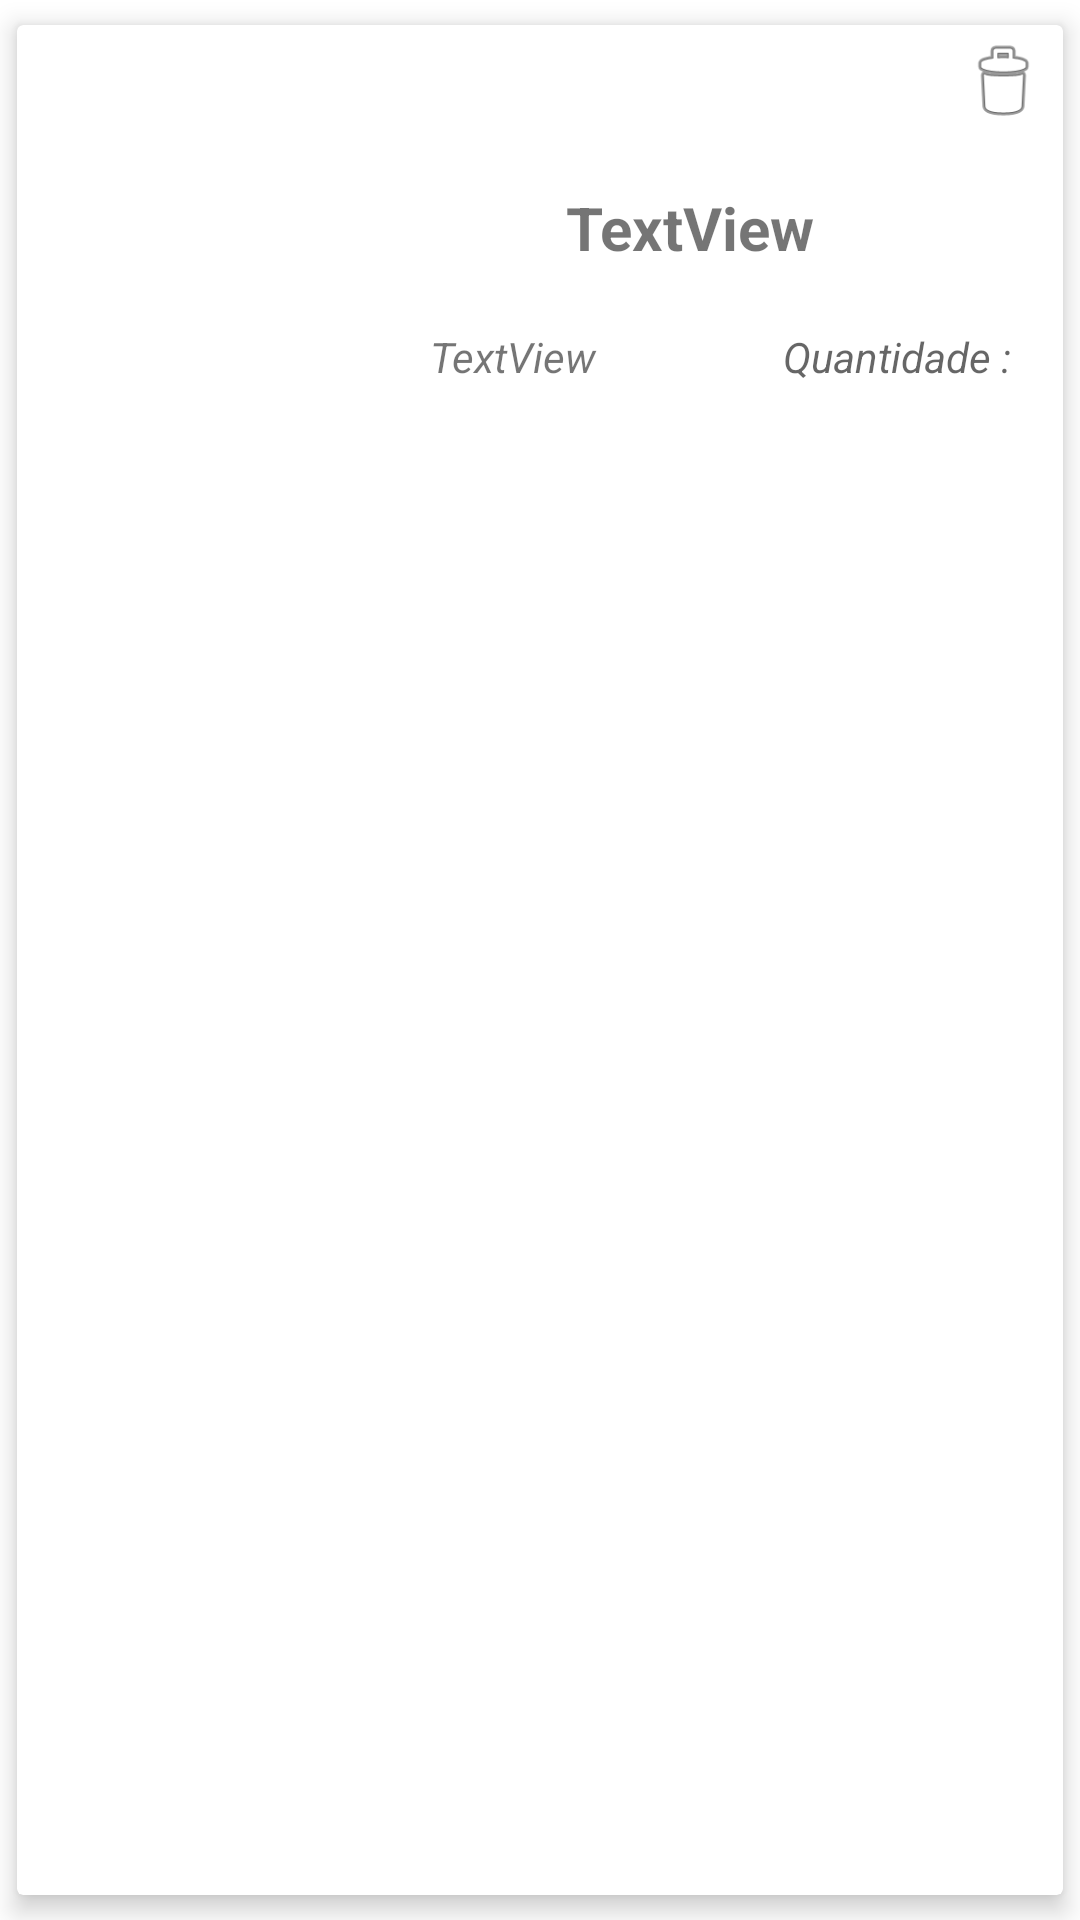

Icons on this 1080px×1920px Android screen, each with the point to tap as (x,y):
delete: (1003,80)
